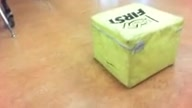cube: (90, 2, 184, 88)
